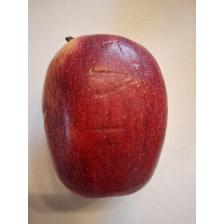Apfel: (38, 31, 172, 202)
